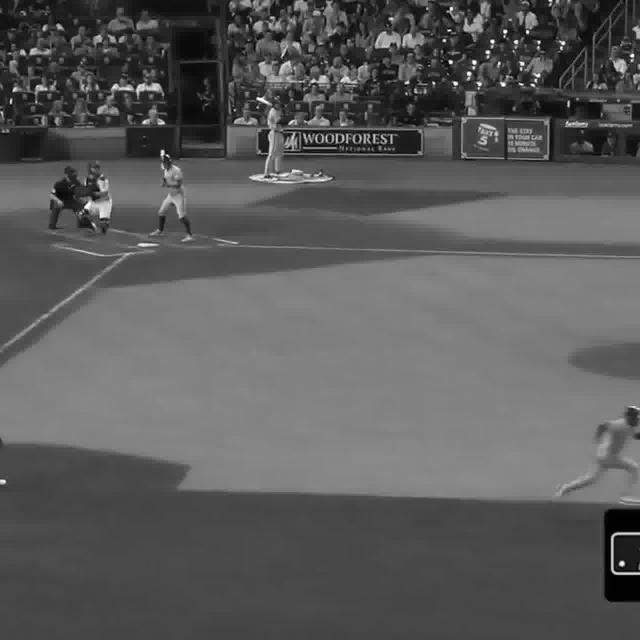base: (137, 241, 160, 250)
baseball_glove: (76, 186, 96, 198)
bat: (253, 96, 294, 115), (156, 146, 170, 187)
shoe: (553, 481, 566, 503), (619, 497, 640, 508), (183, 235, 198, 245), (150, 230, 164, 237)
